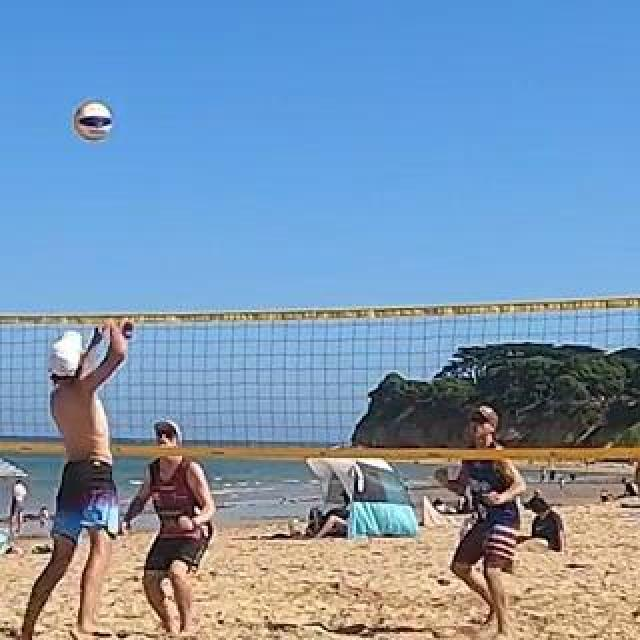volleyball: (75, 103, 113, 141)
